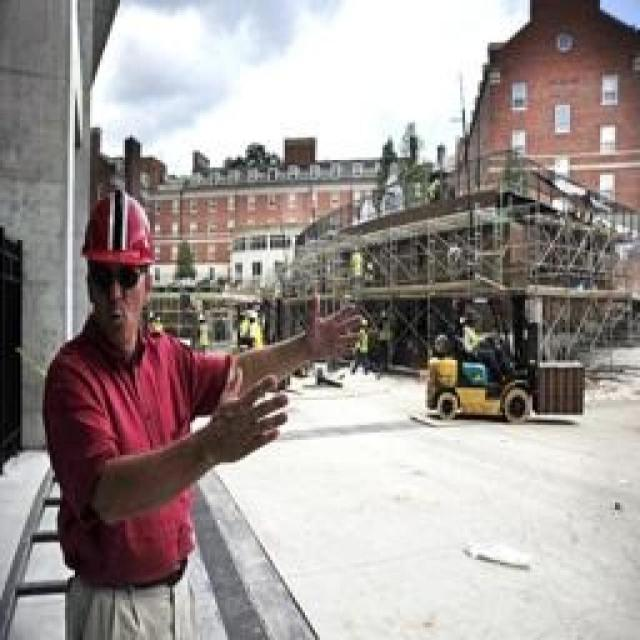Helmet: (23, 312, 245, 640), (68, 164, 172, 320)
